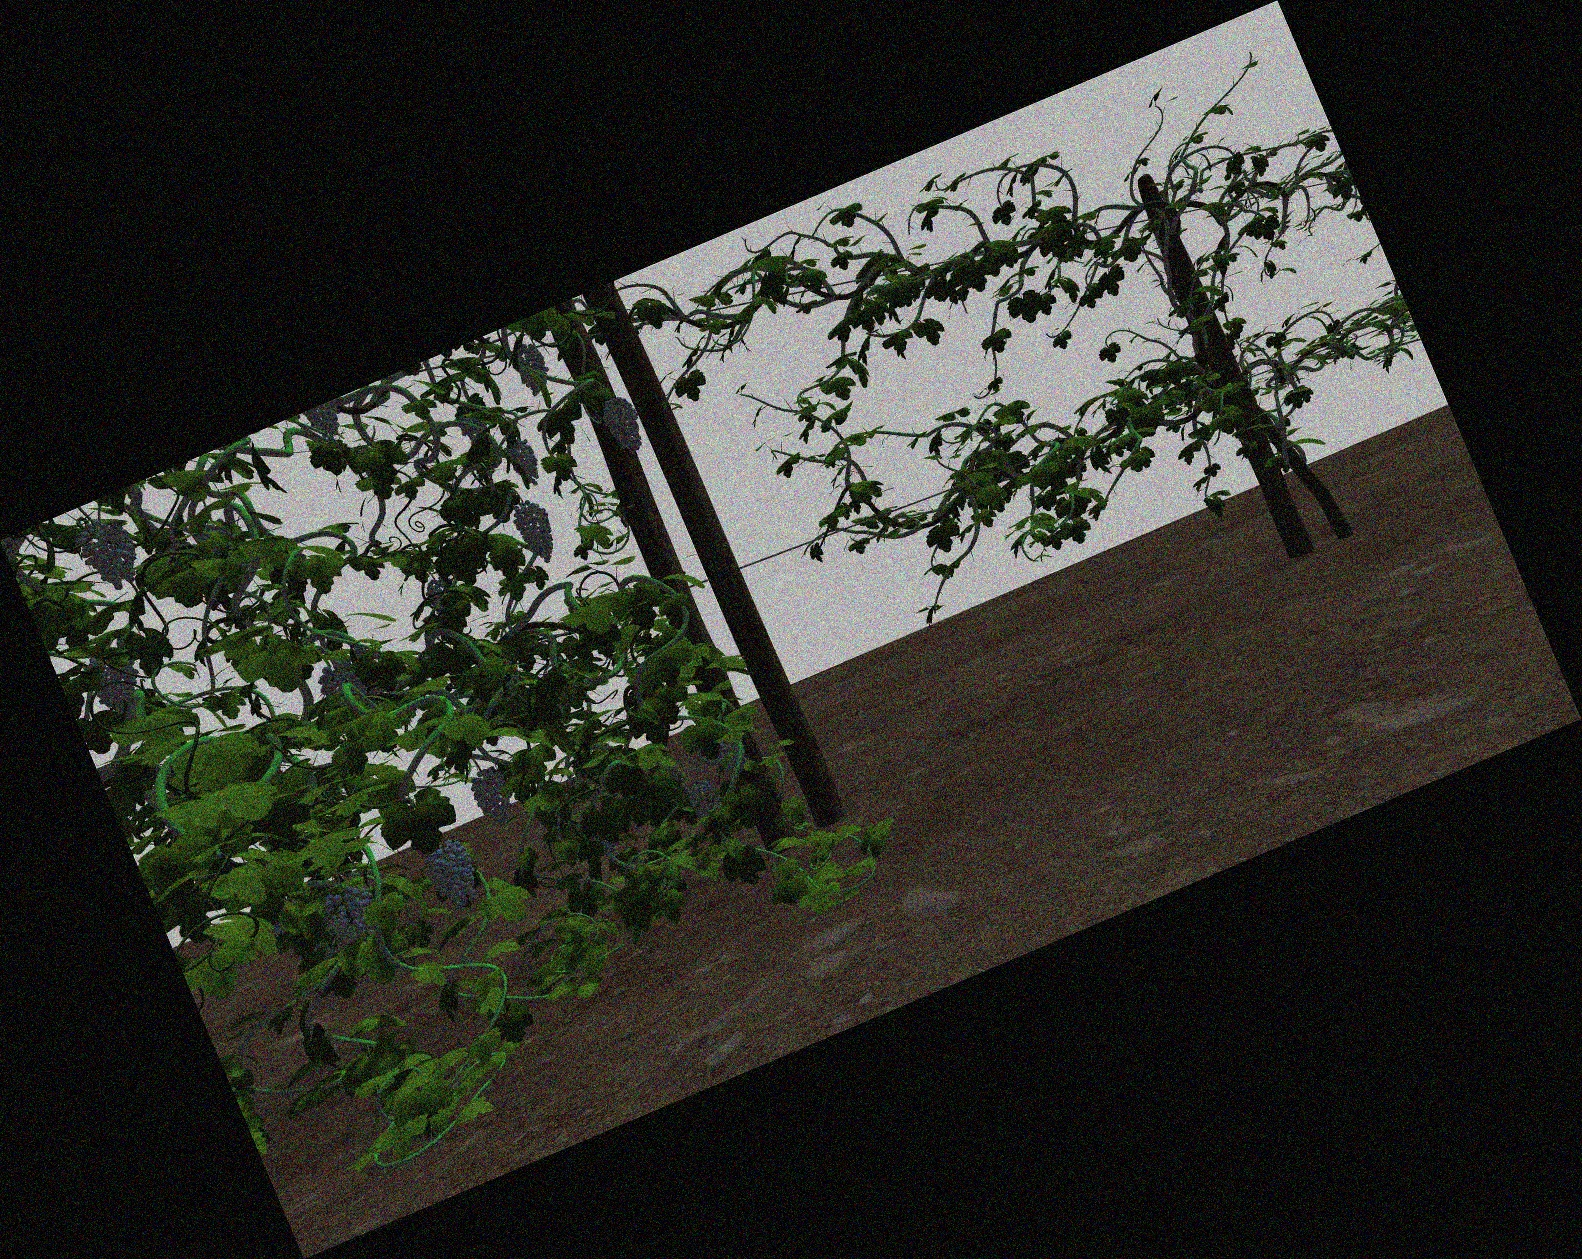grape: (83, 522, 136, 585), (430, 841, 478, 910), (92, 651, 136, 710), (326, 890, 376, 939), (474, 768, 511, 823), (521, 501, 553, 563), (607, 394, 639, 453), (516, 344, 548, 394), (512, 439, 542, 489), (318, 662, 358, 698), (690, 782, 718, 820), (311, 409, 342, 439), (720, 741, 746, 773)
